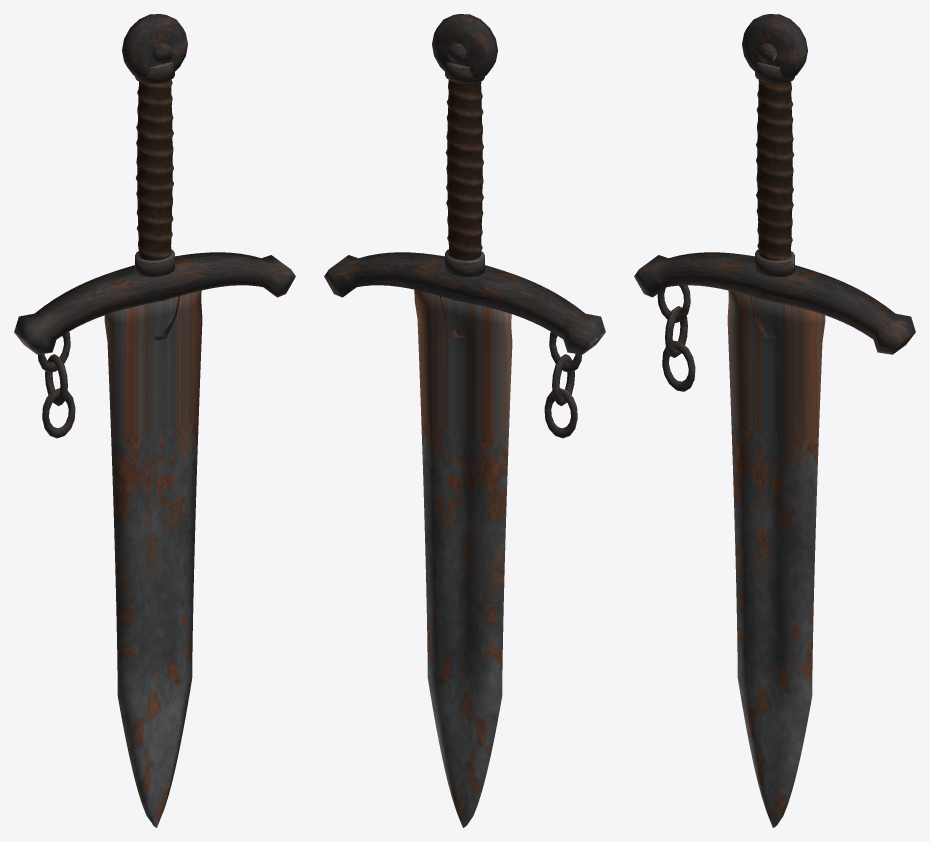
File: prop-giant-sword.glb
3 renders of one model, left to right at view 1: azimuth 30°, elevation 25°; view 2: azimuth 150°, elevation 25°; view 3: azimuth 330°, elevation 25°, orthographic.
Parts seen in each view (by area): view 1: giant-sword; view 2: giant-sword; view 3: giant-sword.
Boxes of the visible parts, <box> form: giant-sword: <box>14,14,295,827</box>; giant-sword: <box>324,14,605,827</box>; giant-sword: <box>634,14,915,827</box>.
Bounding box in the file's own units: 0.6854 × 1.98 × 0.0873.
Materials: 1 (1 with a texture image).
